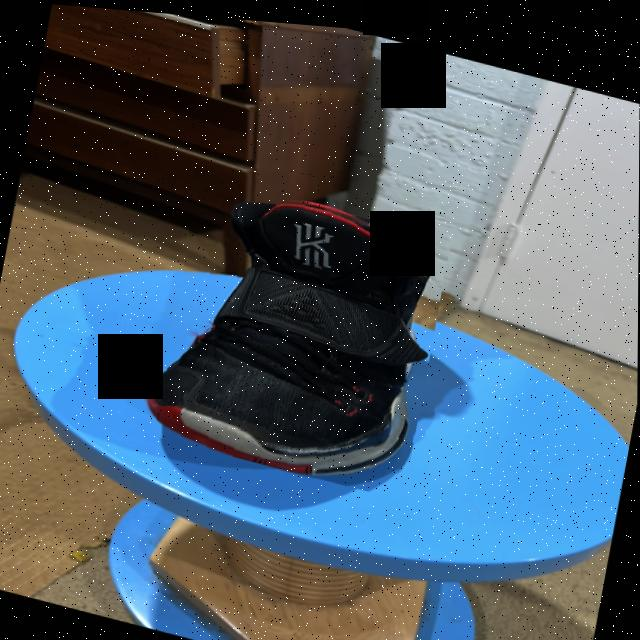shoe: (137, 161, 452, 496)
